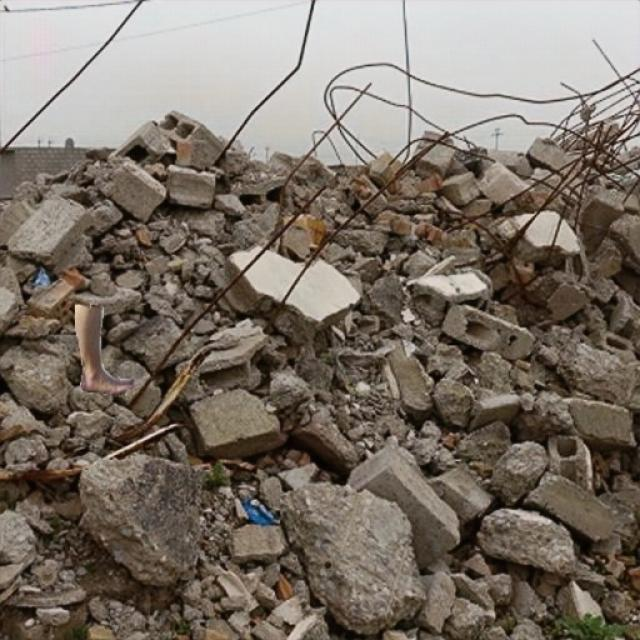Person in Rubble: (75, 304, 134, 396)
